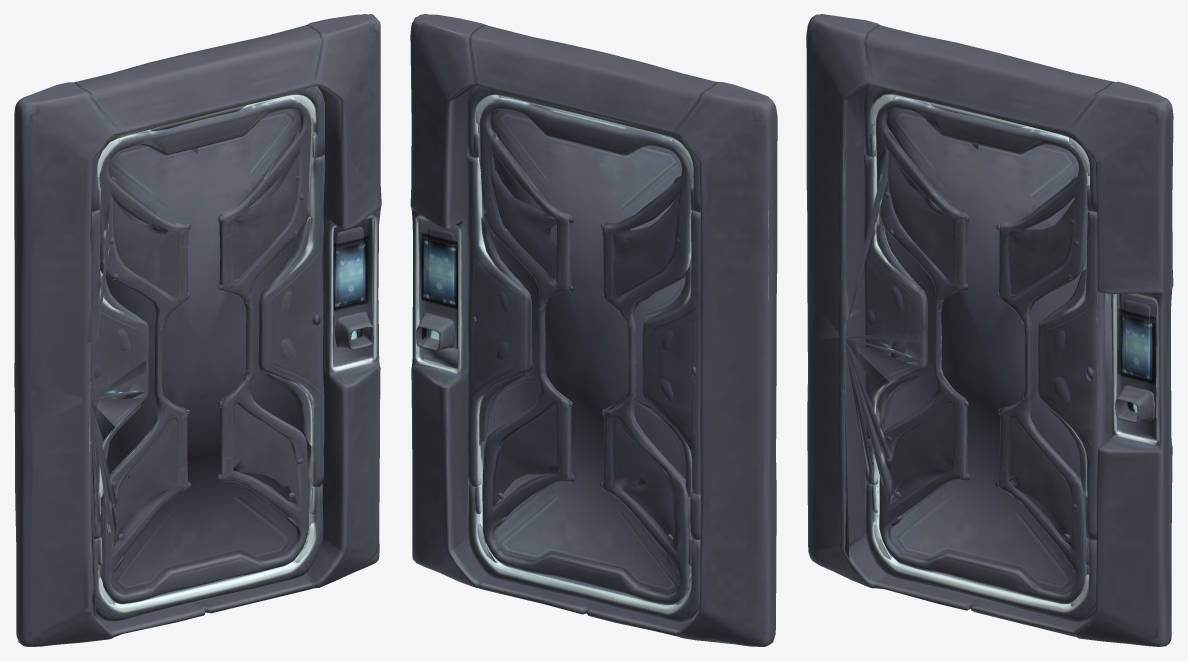
Rendered from dvere.glb.
3 views of the same model, side by side, from view 1: azimuth 30°, elevation 25°; view 2: azimuth 150°, elevation 25°; view 3: azimuth 330°, elevation 25° (orthographic).
Bounding box in the file's own units: 0.6921 × 1 × 0.1354.
1 material, 1 textured.
